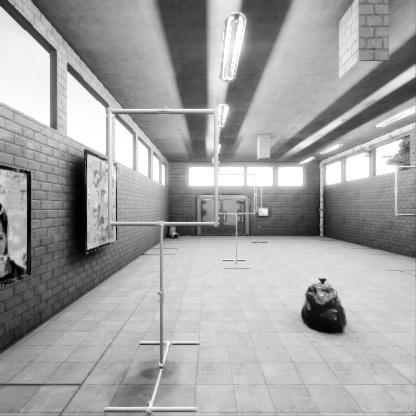gate: (114, 196, 224, 306), (218, 203, 257, 243), (398, 202, 416, 252), (256, 205, 262, 231)
